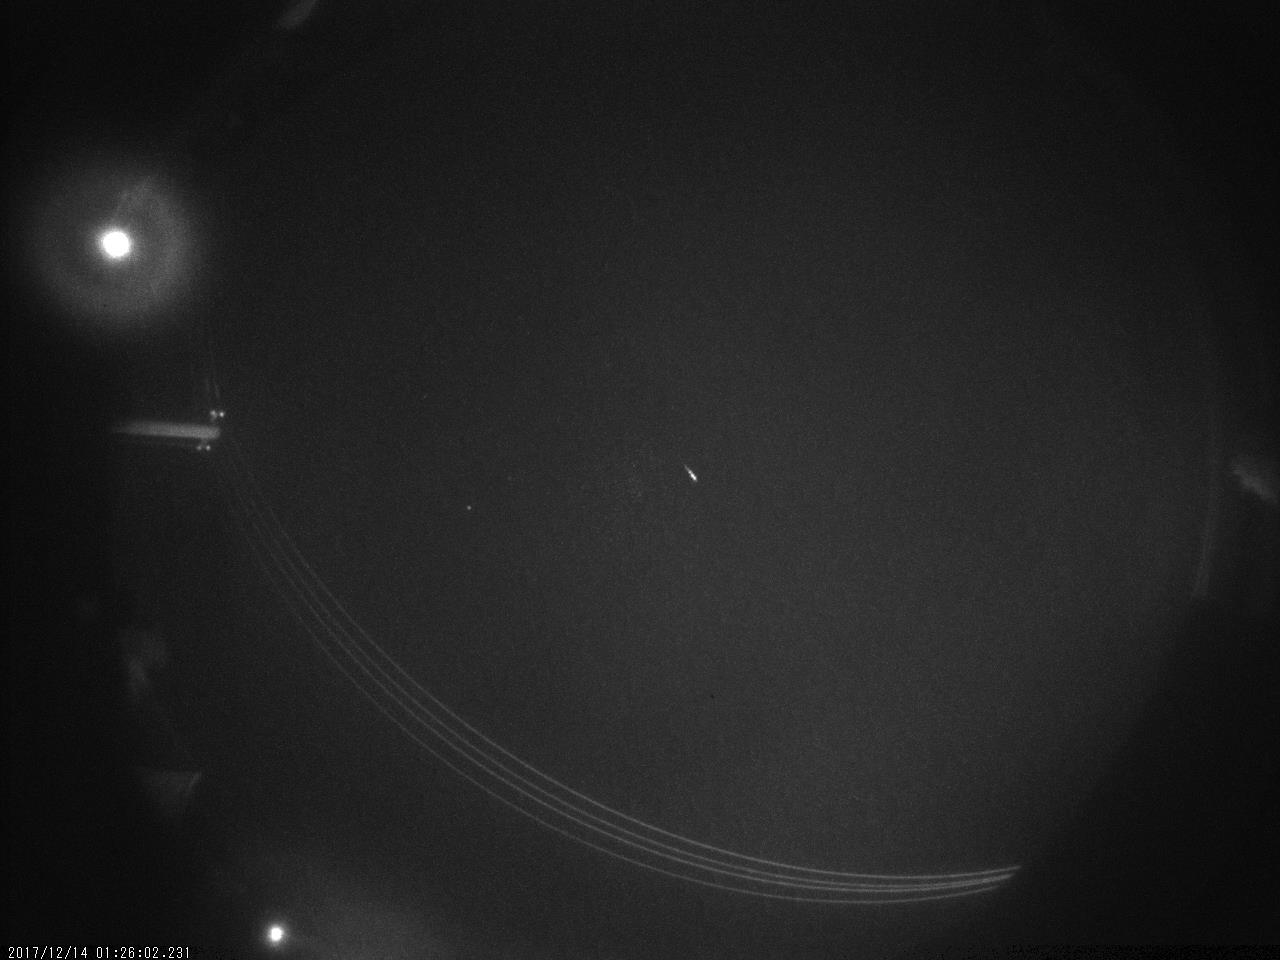meteor: (664, 443, 715, 499)
